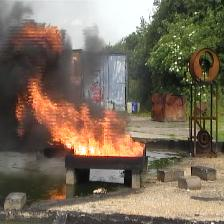fire: (25, 91, 145, 157)
smoke: (7, 43, 75, 79)
